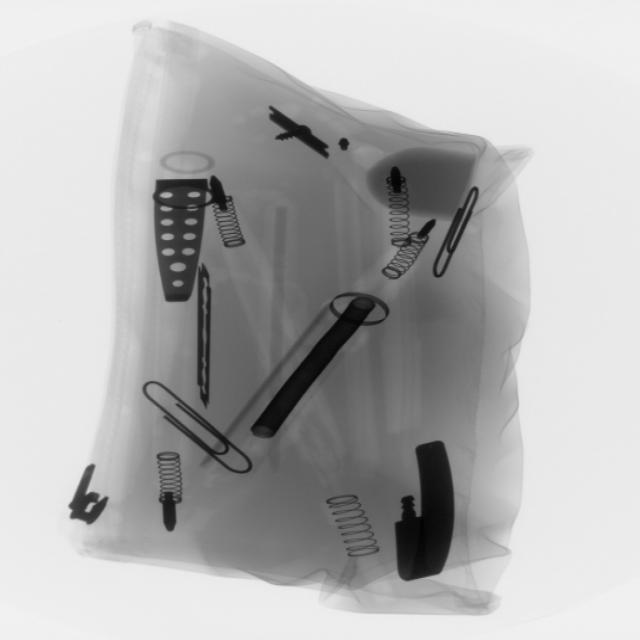SHURIKEN: (185, 254, 226, 410)
